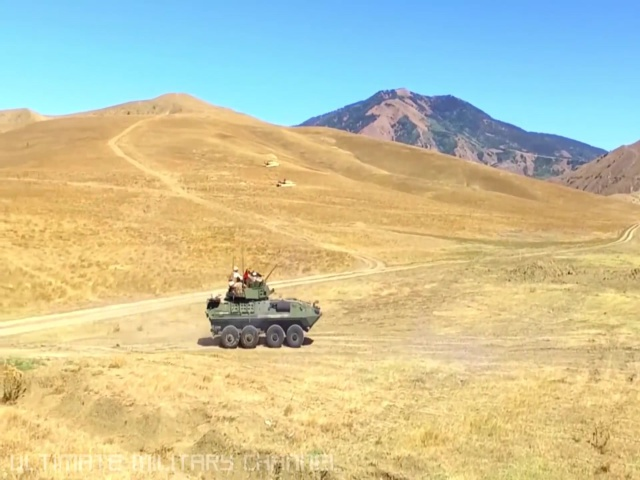vehicle: (204, 277, 324, 350)
